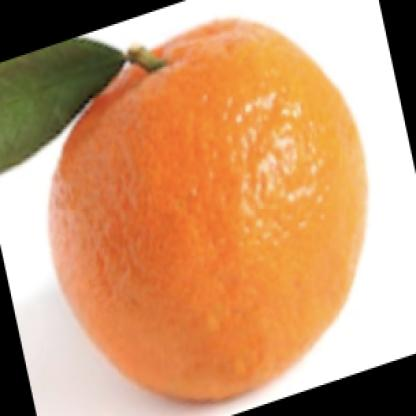fresh: (50, 21, 367, 397)
